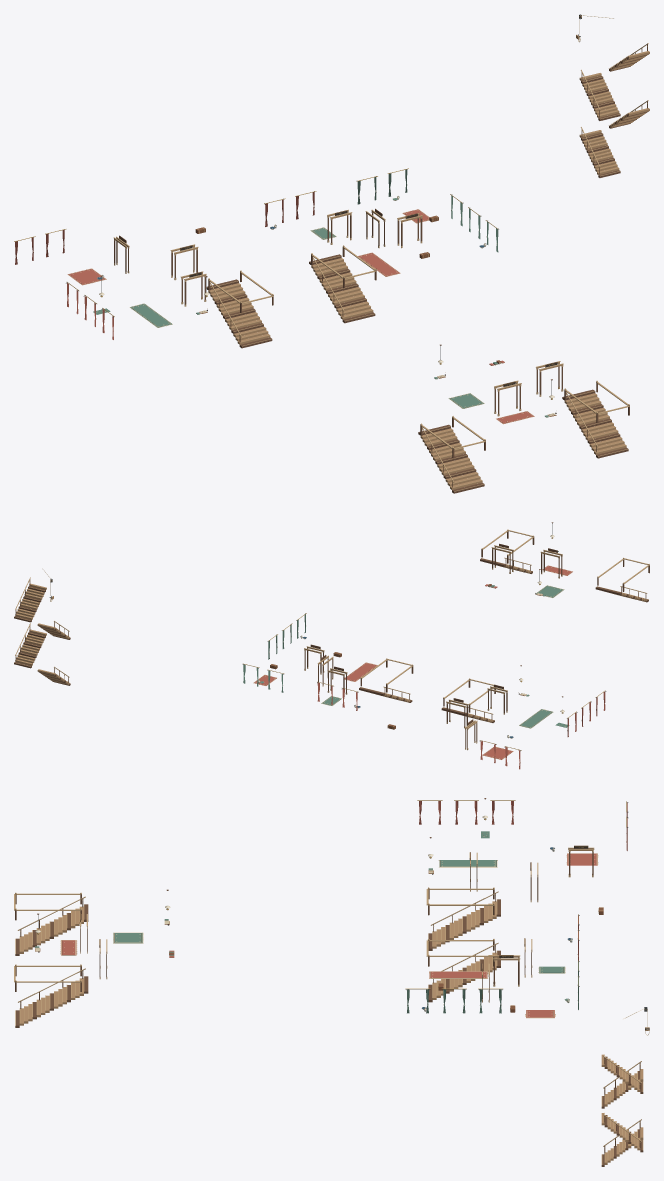
The model's file is frontier-upper-rooms.glb.
3 renders of one model, top to bottom at view 1: azimuth 30°, elevation 25°; view 2: azimuth 150°, elevation 25°; view 3: azimuth 270°, elevation 25°, orthographic. The views are drawn at different scales.
Parts seen in each view (by area): view 1: Upper fittings bank, Upper fittings hotel, Upper fittings saloon, Upper fittings church_tower; view 2: Upper fittings hotel, Upper fittings saloon, Upper fittings church_tower, Upper fittings bank; view 3: Upper fittings bank, Upper fittings saloon, Upper fittings hotel, Upper fittings church_tower.
Part boxes in pixels (x1=…): Upper fittings bank: x1=418, y1=344, x2=629, y2=493; Upper fittings hotel: x1=264, y1=168, x2=498, y2=323; Upper fittings saloon: x1=14, y1=227, x2=273, y2=348; Upper fittings church_tower: x1=576, y1=14, x2=649, y2=177; Upper fittings hotel: x1=242, y1=613, x2=413, y2=710; Upper fittings saloon: x1=387, y1=665, x2=606, y2=769; Upper fittings church_tower: x1=14, y1=568, x2=70, y2=685; Upper fittings bank: x1=480, y1=522, x2=649, y2=602; Upper fittings bank: x1=14, y1=889, x2=174, y2=1027; Upper fittings saloon: x1=417, y1=798, x2=628, y2=950; Upper fittings hotel: x1=405, y1=914, x2=579, y2=1018; Upper fittings church_tower: x1=601, y1=1007, x2=649, y2=1166.
Size of the model in its own units: 60.95 by 13.65 by 52.38.
